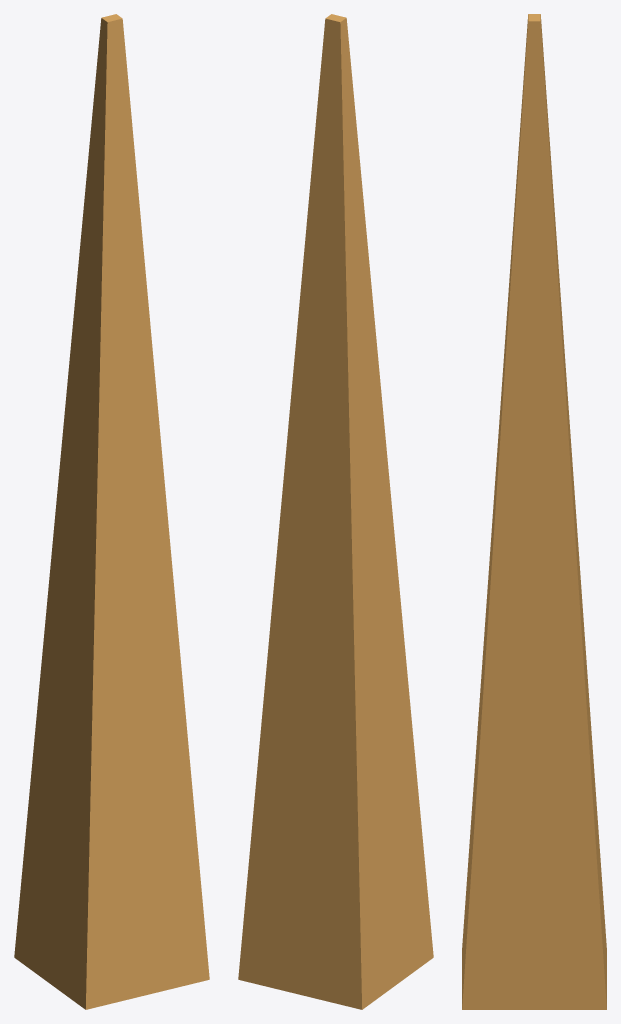
File: Mirror spikes.fbx
3 renders of one model, left to right at view 1: azimuth 30°, elevation 25°; view 2: azimuth 150°, elevation 25°; view 3: azimuth 270°, elevation 25°, orthographic.
Visible parts, largest first — view 1: Cube.003; view 2: Cube.003; view 3: Cube.003.
Boxes of the visible parts, x1=… form: Cube.003: x1=14, y1=14, x2=209, y2=1009; Cube.003: x1=238, y1=14, x2=433, y2=1009; Cube.003: x1=462, y1=14, x2=606, y2=1009.
Bounding box in the file's own units: 39.46 × 289 × 39.46.
